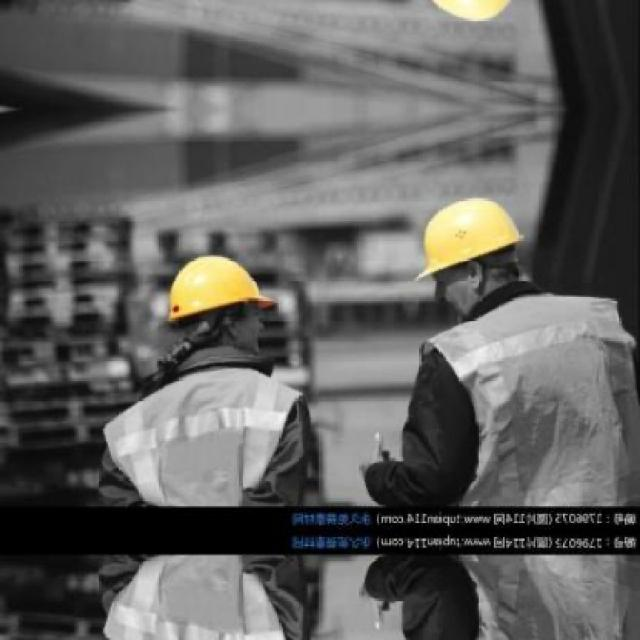helmet: (414, 184, 529, 314), (158, 249, 290, 360), (414, 0, 531, 32)
